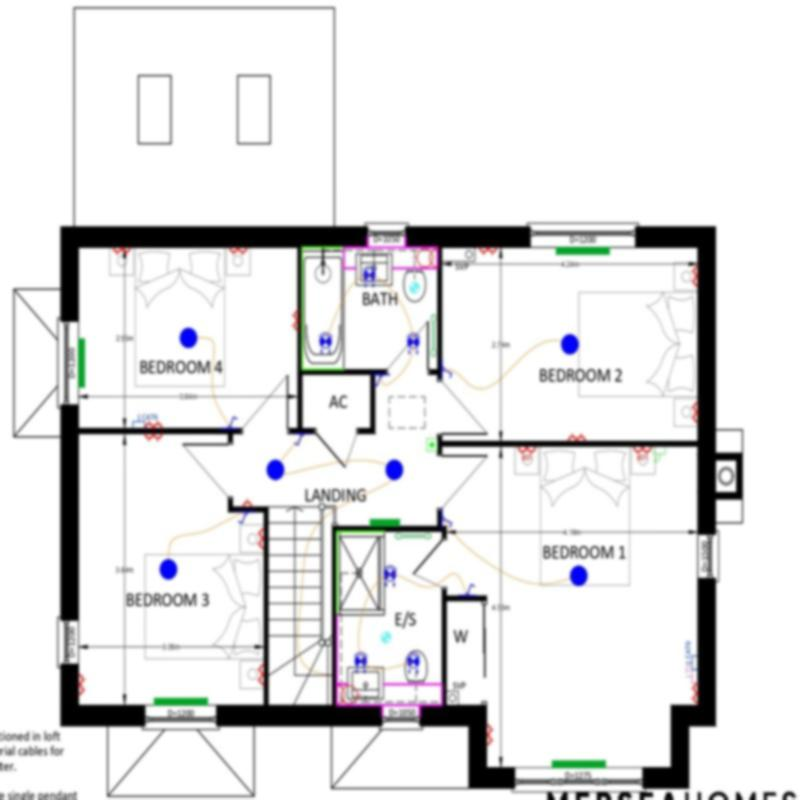Cat 6 Data Socket: (684, 640, 698, 670), (132, 414, 157, 428)
Ceiling Mounted Continuous Extract FanWith Boost Mode Activated By Light Switch: (381, 632, 391, 643), (410, 282, 420, 293)
Co-Ax TV Socket: (684, 664, 698, 682)
Double Socket: (691, 264, 699, 288), (486, 724, 494, 746), (256, 528, 264, 549), (256, 664, 264, 685), (112, 248, 132, 256), (79, 675, 87, 695), (145, 420, 162, 429), (145, 434, 162, 443), (689, 684, 697, 703), (479, 248, 497, 256), (568, 433, 586, 441), (690, 402, 697, 422), (291, 311, 298, 330), (229, 248, 248, 255)
Full Height Tiling: (301, 246, 345, 370), (336, 531, 384, 615)
Light Switch: (442, 367, 452, 380), (238, 512, 248, 524), (294, 434, 304, 446), (465, 584, 475, 595), (227, 416, 237, 427), (442, 517, 453, 527), (375, 375, 383, 387)
Low Energy Downlighter: (353, 652, 369, 673), (406, 652, 421, 674), (319, 332, 333, 355), (383, 565, 397, 587), (406, 333, 420, 355), (363, 266, 376, 288)
Low Energy Pendant Light: (561, 334, 579, 355), (267, 459, 284, 481), (160, 558, 177, 580), (386, 459, 403, 480), (180, 328, 197, 348), (570, 566, 587, 586)
Programmable Room Thermostat: (426, 438, 437, 451)
Radiator: (556, 247, 610, 255), (154, 698, 208, 706), (552, 761, 606, 768), (78, 338, 85, 388), (370, 519, 400, 526)
Shaver Socket: (337, 685, 361, 705), (413, 249, 438, 267)
Single Socket: (242, 499, 251, 506)
Telephone Socket: (653, 446, 667, 461)
USB Double Socket: (633, 446, 652, 460), (518, 446, 536, 460)
